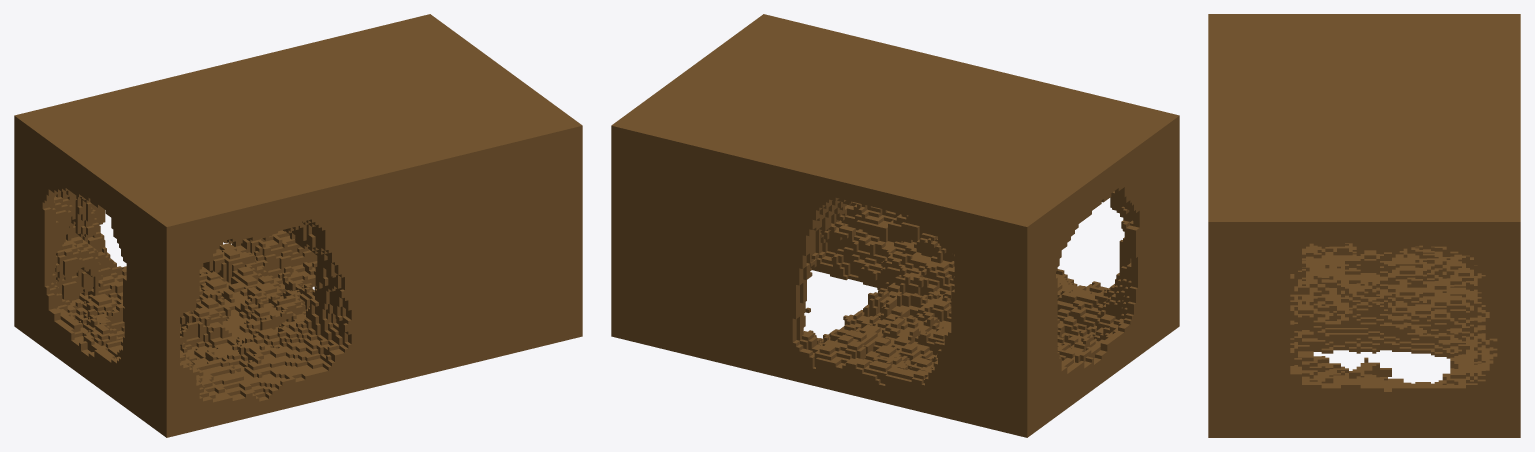
Rendered from Level 1 Middle_Second_v2 Player Cube.obj.
3 renders of one model, left to right at view 1: azimuth 30°, elevation 25°; view 2: azimuth 150°, elevation 25°; view 3: azimuth 270°, elevation 25°, orthographic. The views are drawn at different scales.
Bounding box in the file's own units: 126 × 61 × 80.
Materials: 1 (1 with a texture image).
